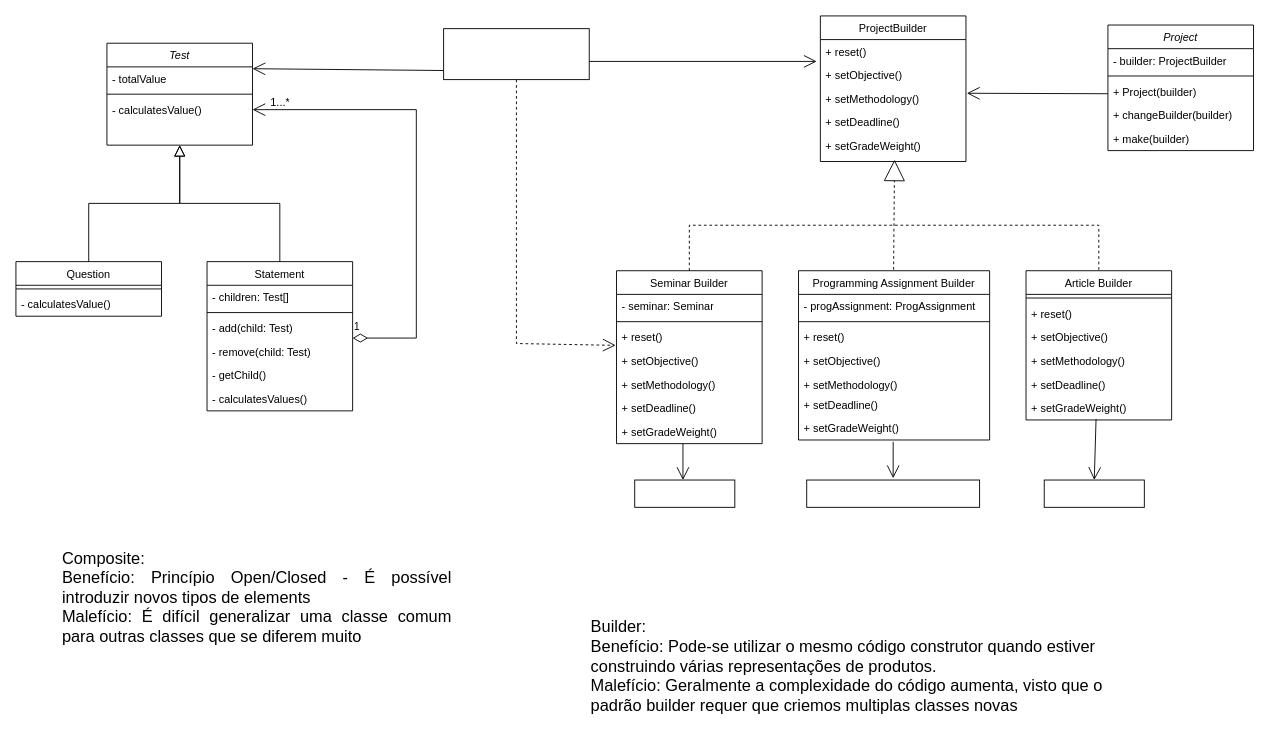
The diagram is 1269 pixels wide and 733 high, and some of its shapes have lost their labels. Each missing label, with the centre of its shape:
"Article Product" belongs at (1093,493).
"Programming Assignment Product" belongs at (893,493).
"SemesterGrades" belongs at (516,54).
"Seminar Product" belongs at (684,493).
